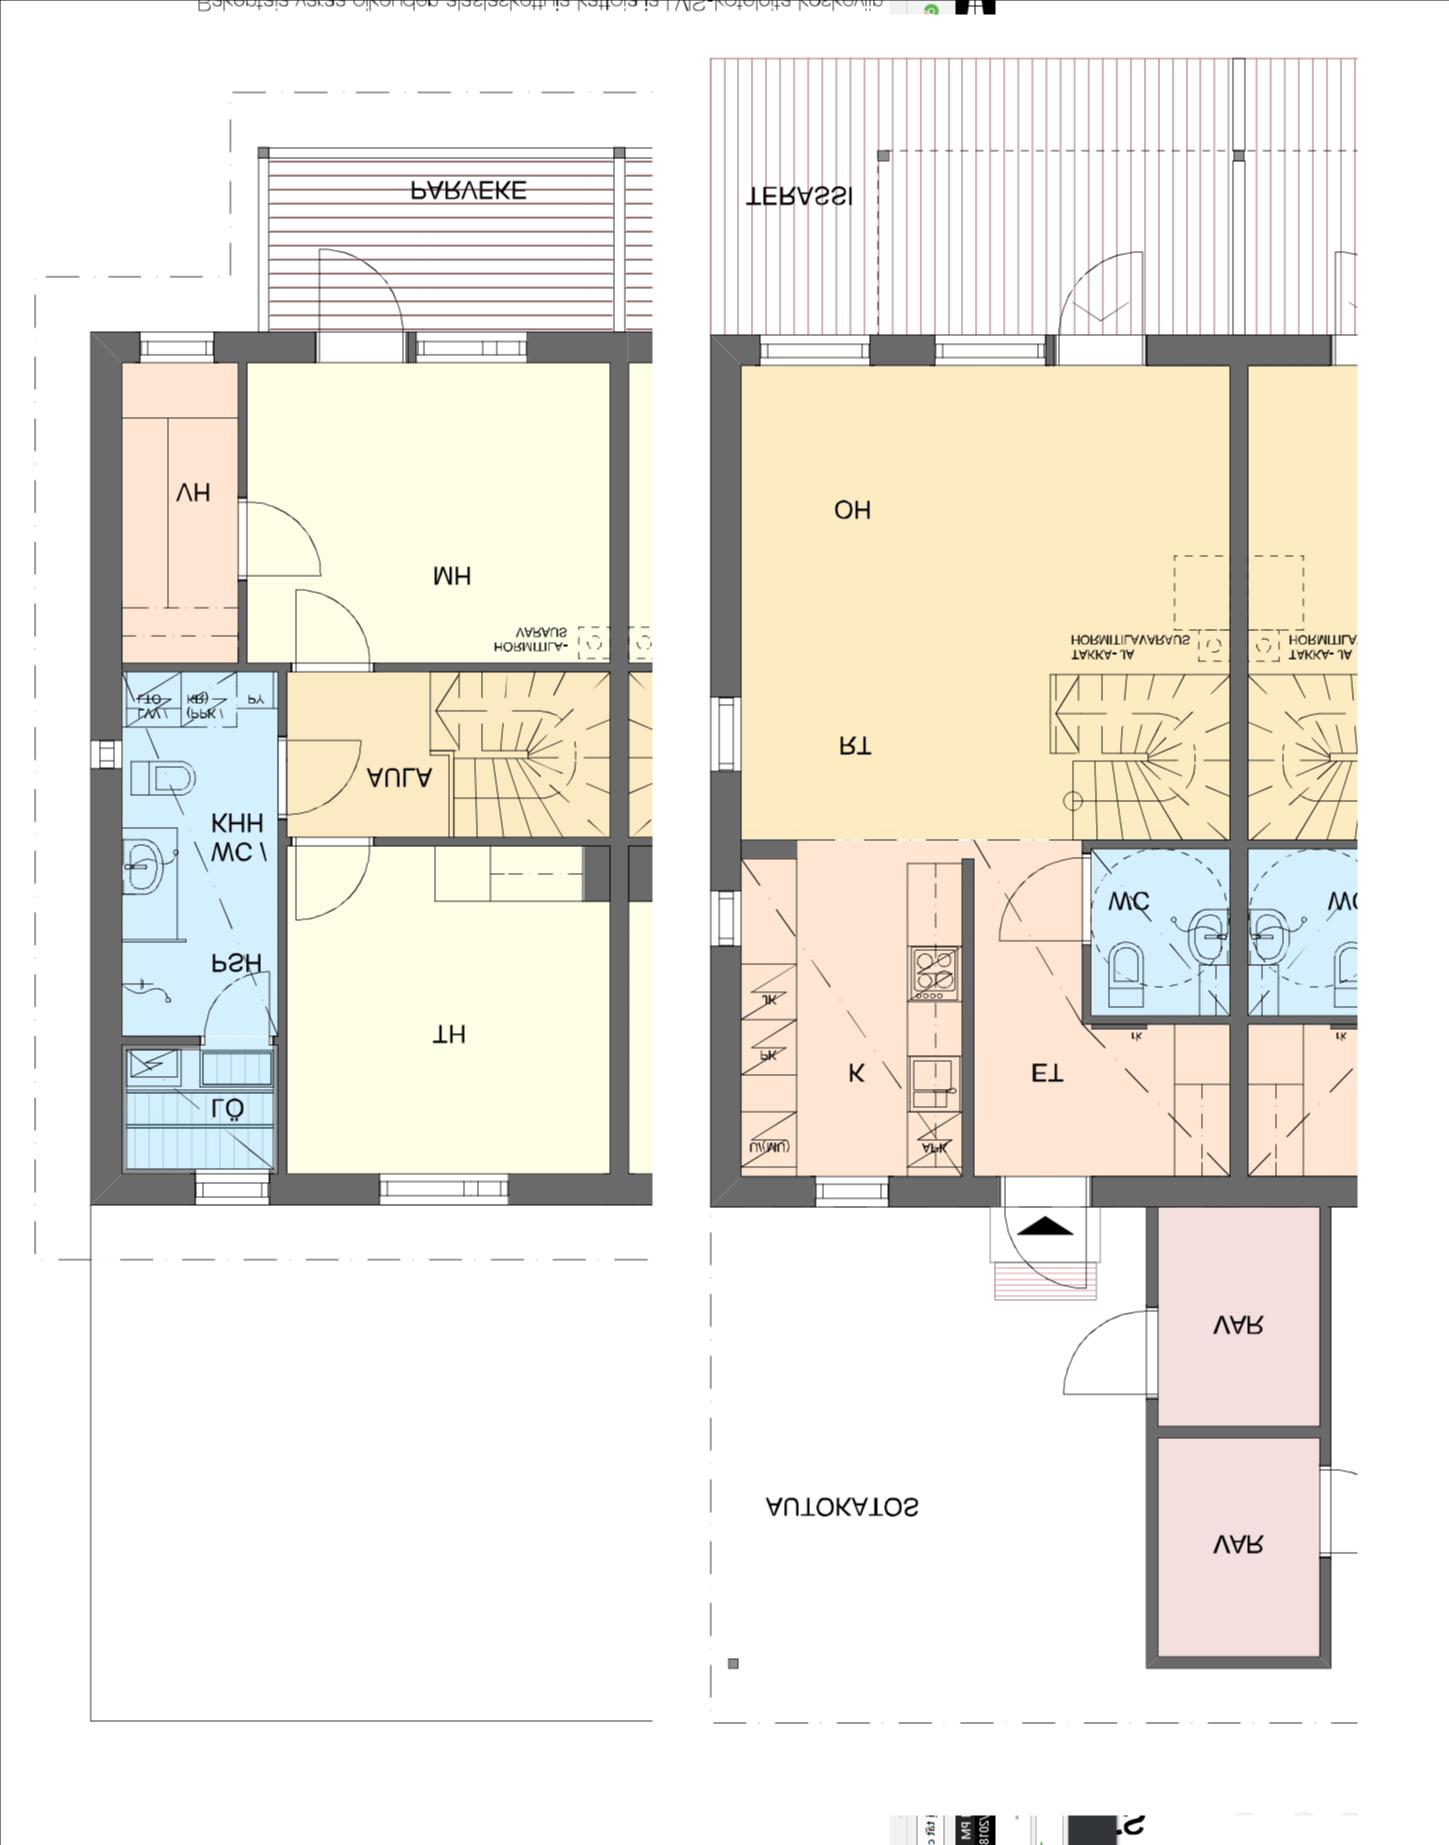door: (988, 1165, 1097, 1291), (1051, 238, 1156, 364), (305, 244, 415, 362), (1052, 1295, 1163, 1403), (989, 849, 1099, 952), (225, 496, 322, 590), (283, 827, 376, 924), (269, 731, 370, 821), (283, 583, 382, 669), (192, 961, 278, 1060)
window: (358, 1168, 527, 1219), (401, 320, 552, 371), (919, 320, 1055, 371), (742, 323, 879, 370), (793, 1170, 907, 1219), (124, 320, 232, 370), (704, 680, 747, 783), (180, 1165, 283, 1209), (704, 881, 753, 954), (82, 720, 127, 783)
